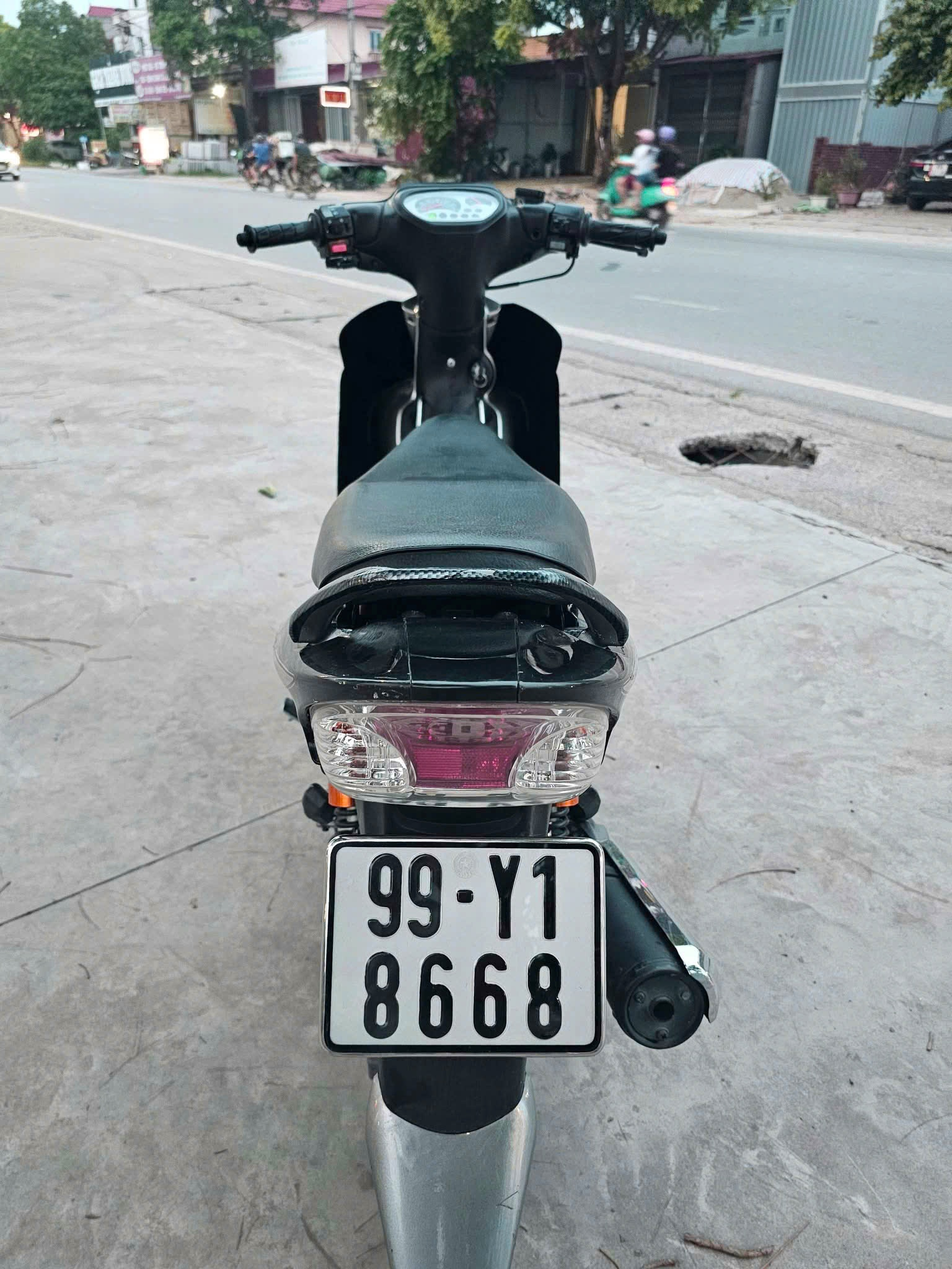Bien-so: (282, 824, 596, 1055)
